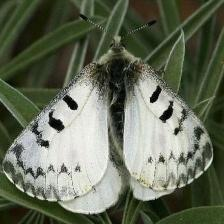butterfly: (3, 39, 214, 214)
